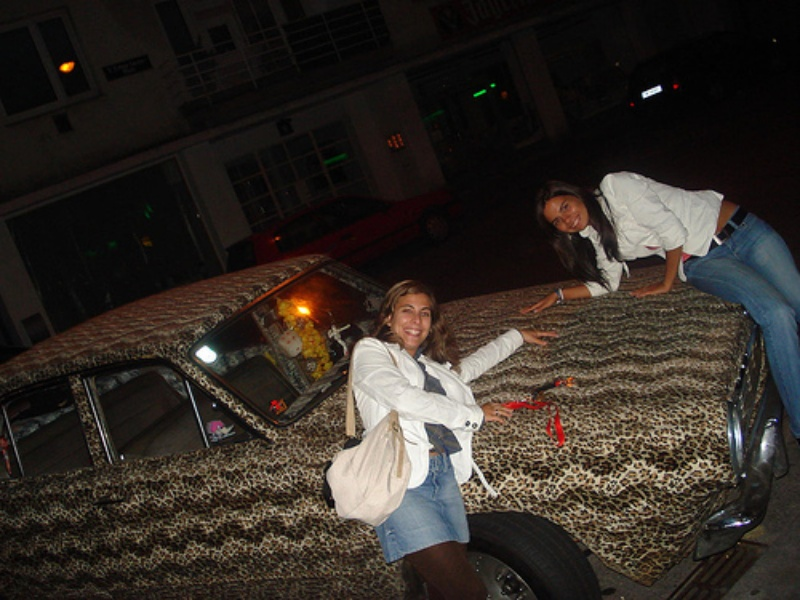car: (1, 254, 800, 600), (225, 194, 451, 266)
person: (520, 170, 800, 443), (325, 278, 559, 600)
